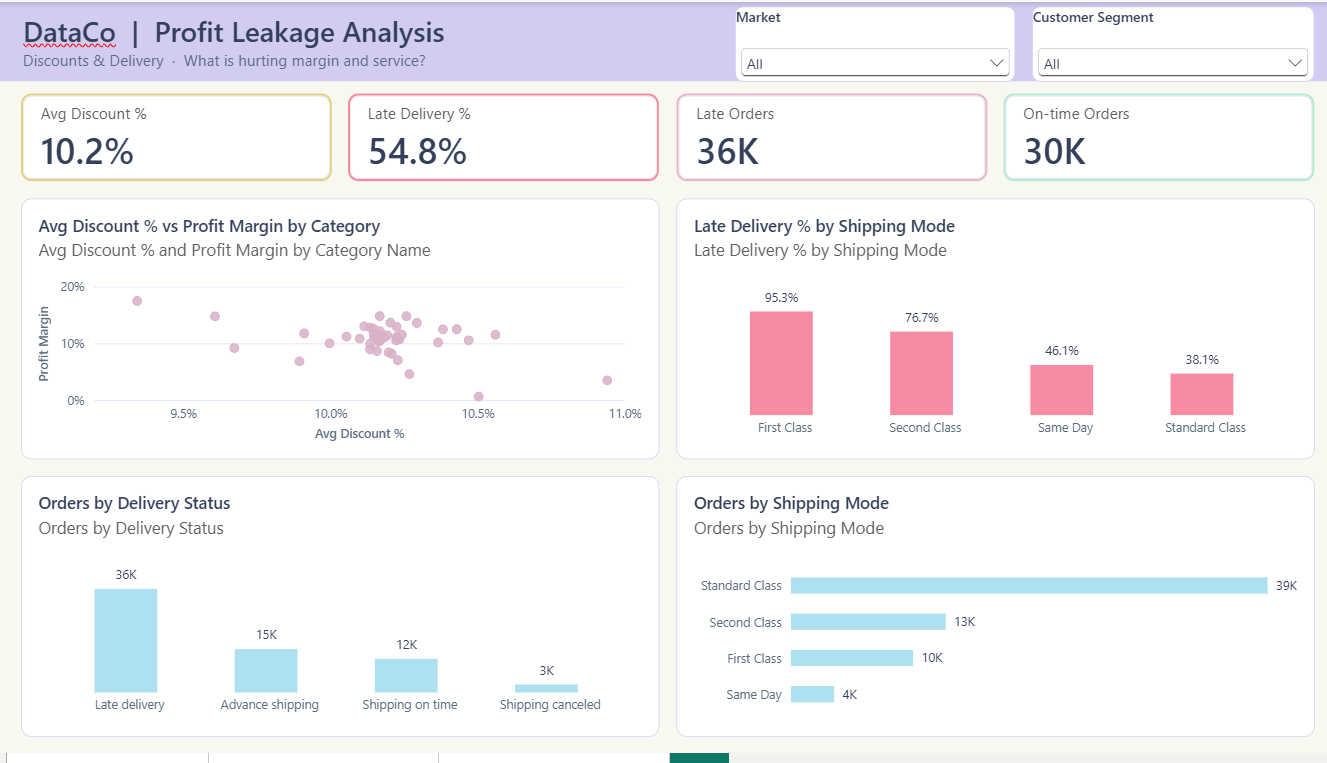

What the dashboard file says about the page in this screenshot:
{"tool":"powerbi","page":{"name":"Discounts & Delivery","canvas":[1280,720],"ordinal":1},"visuals":[{"type":"textbox","box":[0,0,1280,76],"z":0},{"type":"slicer","title":"Market","fields":{"Values":["DataCo_Orders.Market"]},"box":[704.7,4.3,268.9,71.9],"z":3000},{"type":"slicer","title":"Customer Segment","fields":{"Values":["DataCo_Orders.Customer Segment"]},"box":[989.4,4.3,270.4,71.9],"z":4000},{"type":"cardVisual","fields":{"Data":["DataCo_Orders.Avg_Discount_Percentage"]},"box":[20,88,298,84],"z":10000},{"type":"cardVisual","fields":{"Data":["DataCo_Orders.Late_Delivery_Percentage"]},"box":[334,88,298,84],"z":11000},{"type":"cardVisual","fields":{"Data":["DataCo_Orders.Late_Orders"]},"box":[648,88,298,84],"z":12000},{"type":"cardVisual","fields":{"Data":["DataCo_Orders.On_Time_Orders"]},"box":[962,88,298,84],"z":13000},{"type":"scatterChart","title":"Avg Discount % vs Profit Margin by Category","fields":{"Category":["DataCo_Orders.Category Name"],"X":["DataCo_Orders.Avg_Discount_Percentage"],"Y":["DataCo_Orders.Profit_Margin"]},"box":[20,188,612,250],"z":20000},{"type":"clusteredColumnChart","title":"Late Delivery % by Shipping Mode","fields":{"Category":["DataCo_Orders.Shipping Mode"],"Y":["DataCo_Orders.Late_Delivery_Percentage"]},"box":[648,188,612,250],"z":21000},{"type":"clusteredColumnChart","title":"Orders by Delivery Status","fields":{"Category":["DataCo_Orders.Delivery Status"],"Y":["DataCo_Orders.Total_Orders"]},"box":[20,454,612,250],"z":22000},{"type":"clusteredBarChart","title":"Orders by Shipping Mode","fields":{"Category":["DataCo_Orders.Shipping Mode"],"Y":["DataCo_Orders.Total_Orders"]},"box":[648,454,612,250],"z":23000}]}

Visuals, with their boxes in screenshot pixels (x1, y1, x2, y2), scaled from the page's 1280x720 canvas onto the 1327x763 screenshot:
textbox: [left=0, top=0, right=1326, bottom=81]
"Market" slicer: [left=731, top=5, right=1009, bottom=81]
"Customer Segment" slicer: [left=1026, top=5, right=1306, bottom=81]
cardVisual - DataCo_Orders.Avg_Discount_Percentage: [left=21, top=93, right=330, bottom=182]
cardVisual - DataCo_Orders.Late_Delivery_Percentage: [left=346, top=93, right=655, bottom=182]
cardVisual - DataCo_Orders.Late_Orders: [left=672, top=93, right=981, bottom=182]
cardVisual - DataCo_Orders.On_Time_Orders: [left=997, top=93, right=1306, bottom=182]
"Avg Discount % vs Profit Margin by Category" scatterChart: [left=21, top=199, right=655, bottom=464]
"Late Delivery % by Shipping Mode" clusteredColumnChart: [left=672, top=199, right=1306, bottom=464]
"Orders by Delivery Status" clusteredColumnChart: [left=21, top=481, right=655, bottom=746]
"Orders by Shipping Mode" clusteredBarChart: [left=672, top=481, right=1306, bottom=746]
